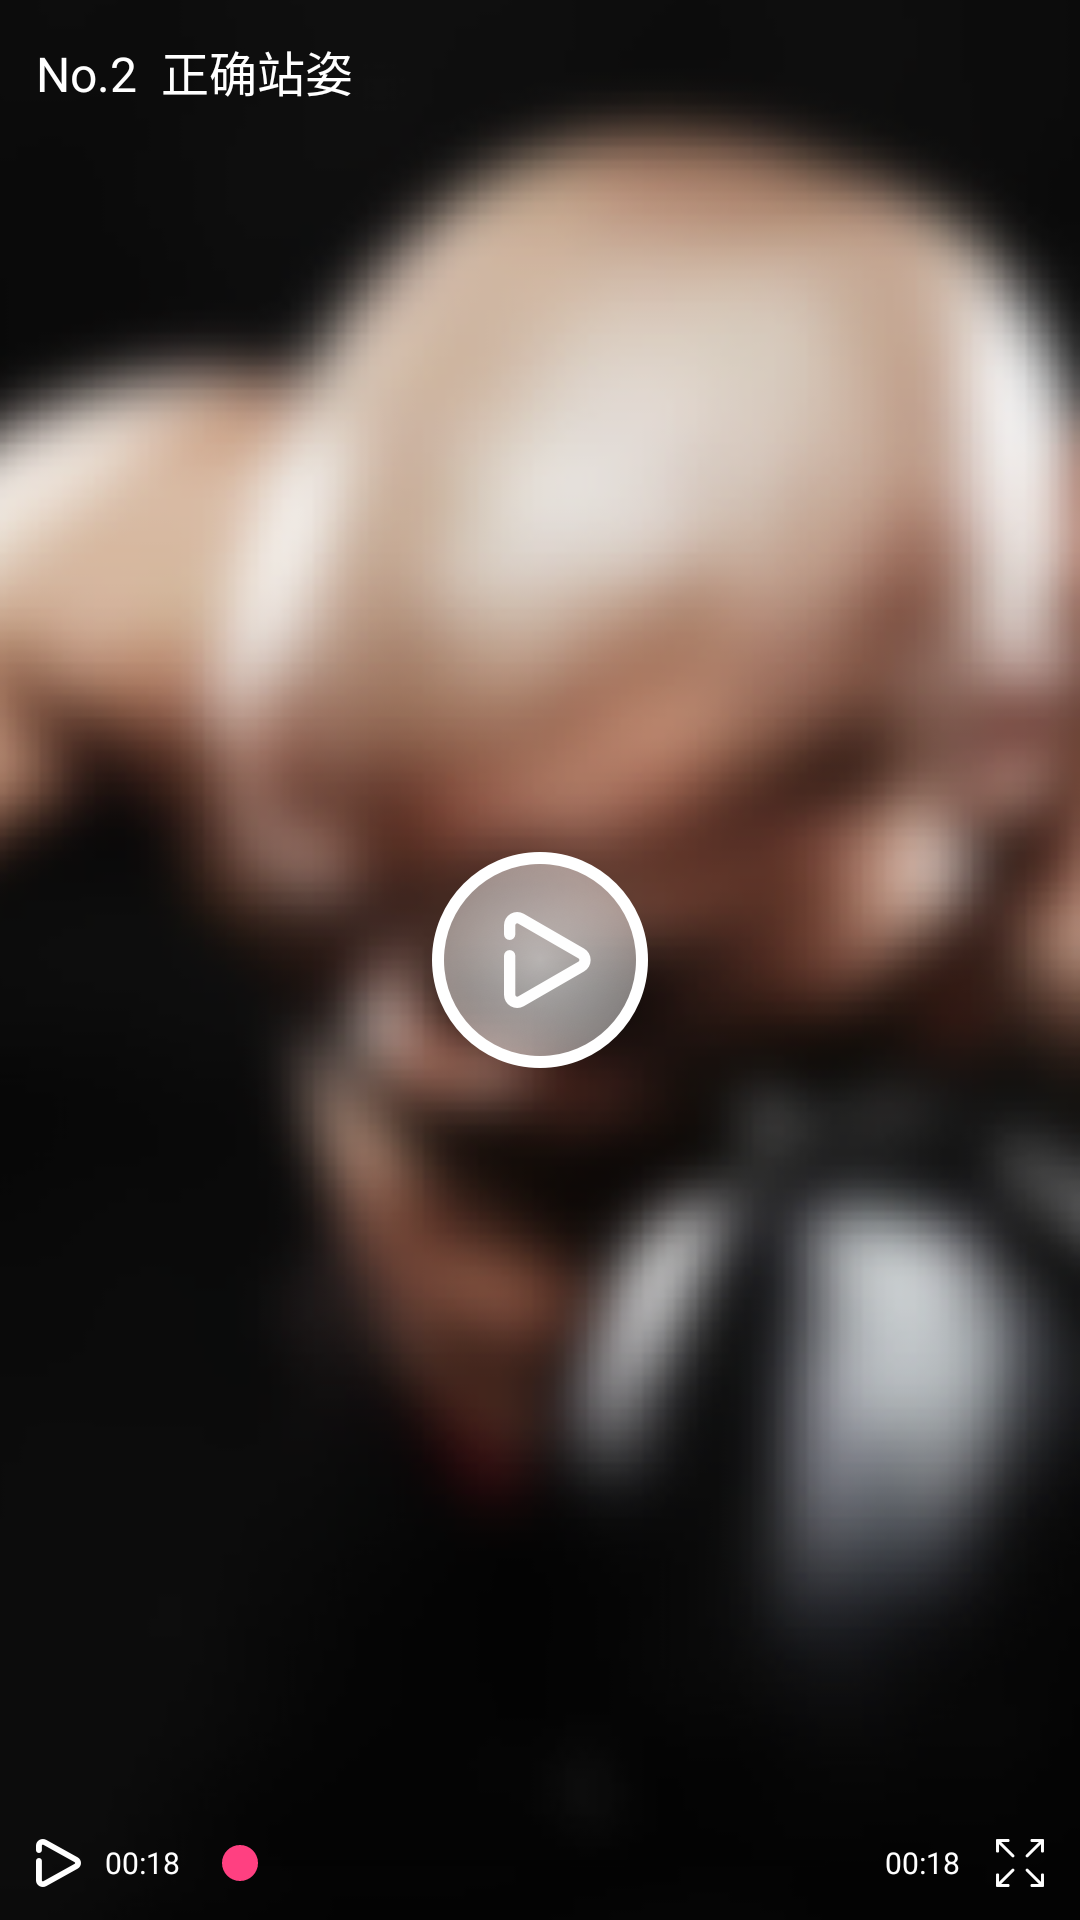

Point at icon controls on the screen. Image size 1080×1920, points as [x,y].
bofang: [540,960], [58,1863]
quanping: [1020,1863]
